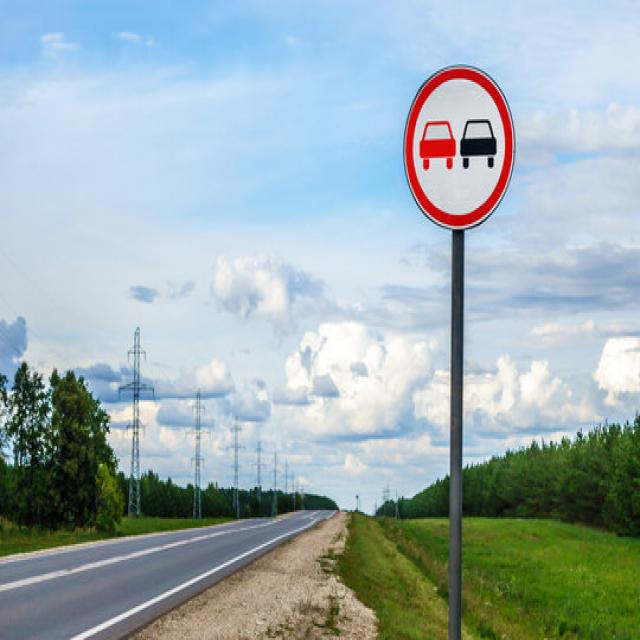no overtaking: (399, 58, 518, 237)
